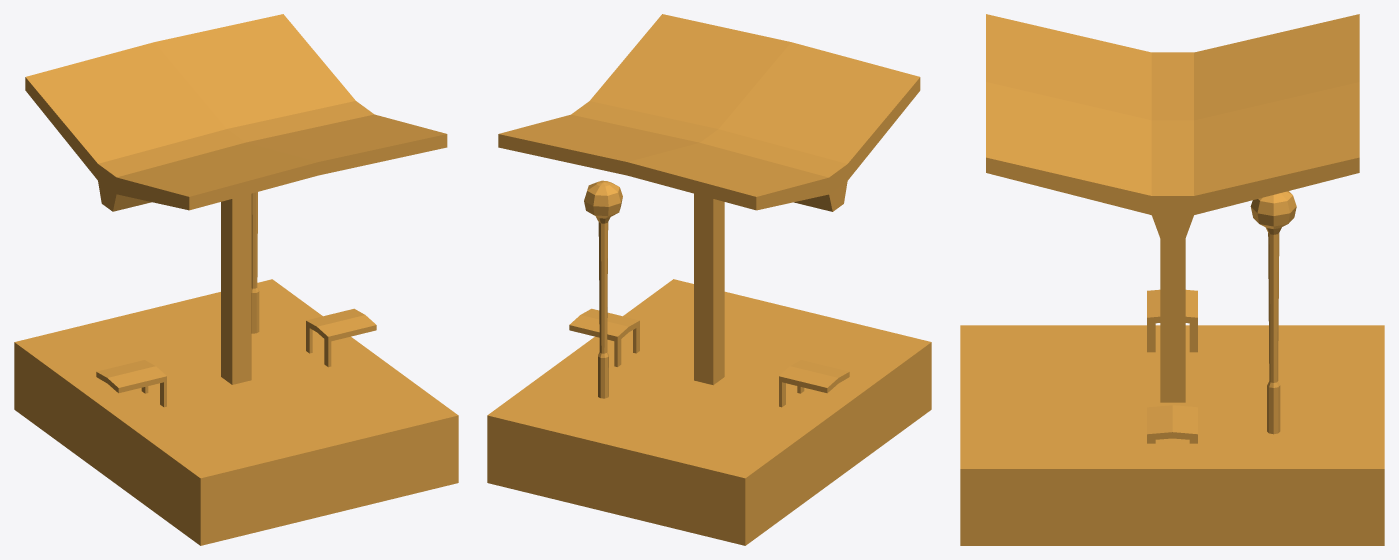
Rendered from train-station-platform-light-small.glb.
3 renders of one model, left to right at view 1: azimuth 30°, elevation 25°; view 2: azimuth 150°, elevation 25°; view 3: azimuth 270°, elevation 25°, orthographic. The views are drawn at different scales.
Parts seen in each view (by area): view 1: train-station-platform-light-small; view 2: train-station-platform-light-small; view 3: train-station-platform-light-small.
Boxes of the visible parts, x1,y1,x2,y2 form: train-station-platform-light-small: (14,14,458,545); train-station-platform-light-small: (487,14,931,545); train-station-platform-light-small: (960,14,1384,545).
Size of the model in its own units: 4 by 5.1 by 5.
